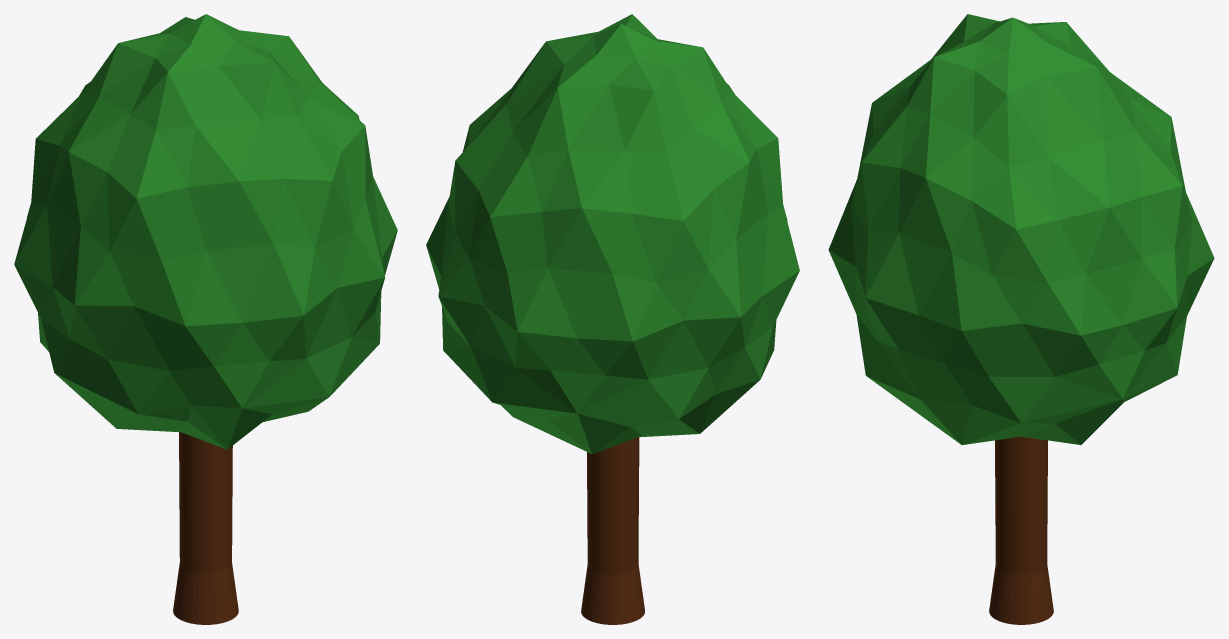
The model's file is Tree3.dae.
3 renders of one model, left to right at view 1: azimuth 30°, elevation 25°; view 2: azimuth 150°, elevation 25°; view 3: azimuth 270°, elevation 25°, orthographic. The views are drawn at different scales.
Parts seen in each view (by area): view 1: Icosphere; view 2: Icosphere; view 3: Icosphere.
Boxes of the visible parts, x1,y1,x2,y2 form: Icosphere: (14,14,397,624); Icosphere: (426,14,799,624); Icosphere: (828,14,1214,624).
Size of the model in its own units: 4.1 by 4.31 by 7.28.
